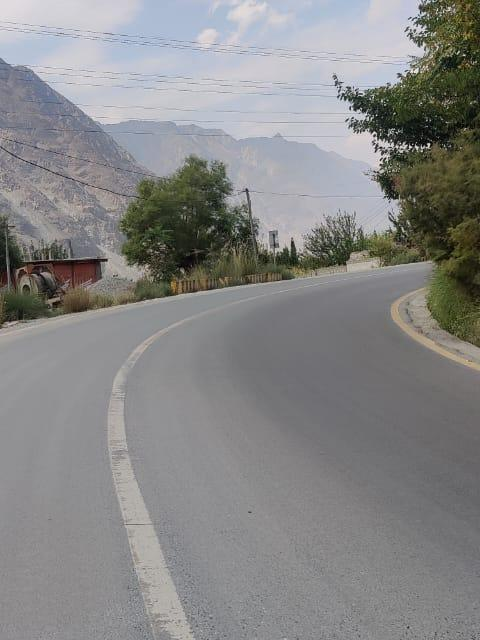right_turn: (73, 183, 480, 386)
